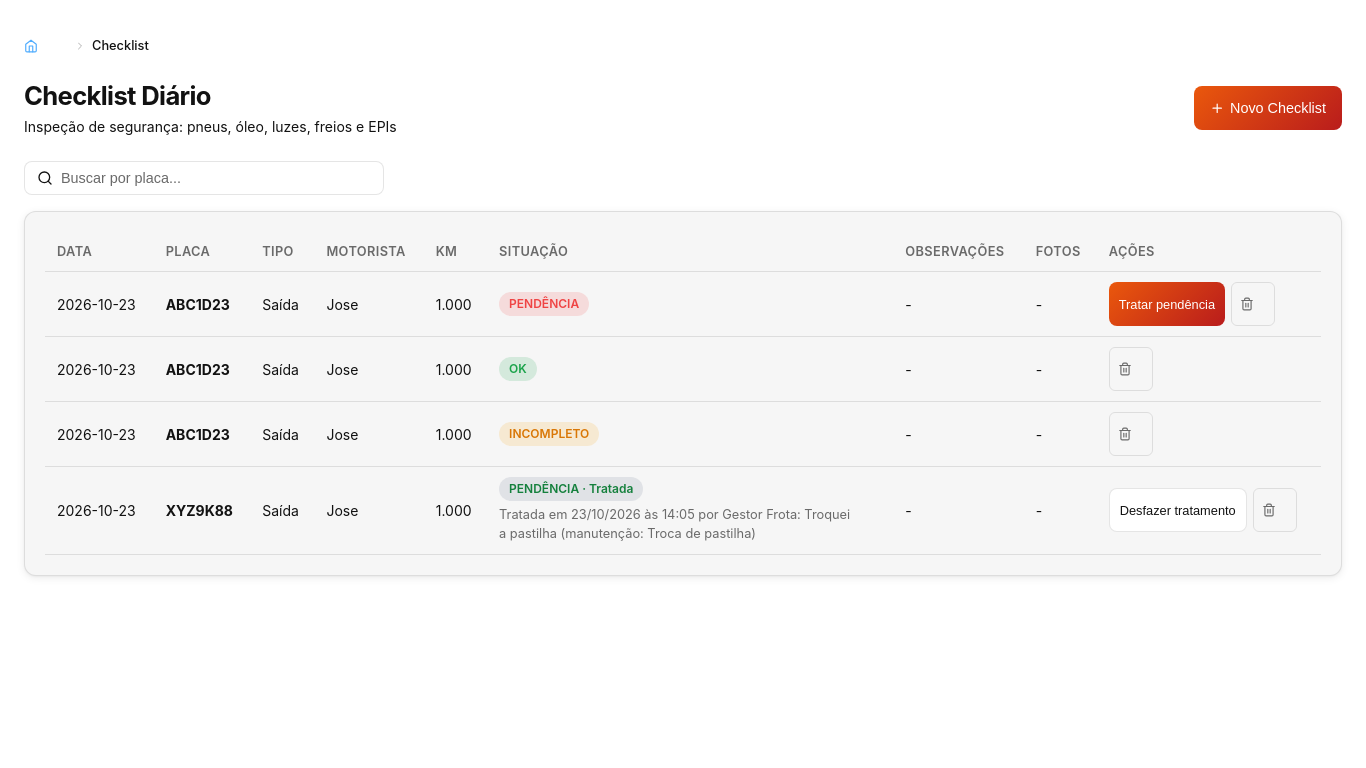
Test: Lista Checklist do gestor: Tratar pendência › Cancelar fecha sem enviar
What coordinates should you click on to do the following:
click the button "Tratar pendência"
I would click on:
 (1167, 304)
Its box is [1109,282,1225,326].
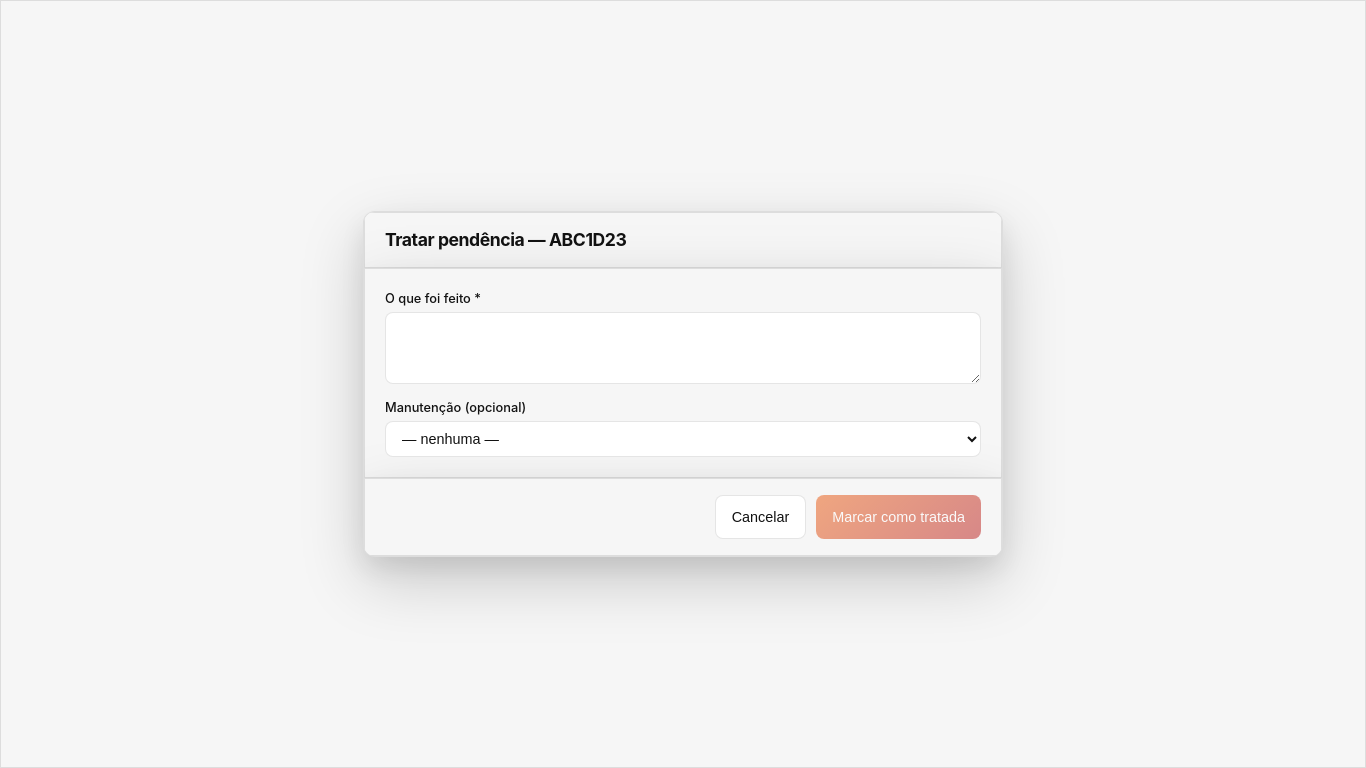
What coordinates should you click on to do the following:
click the button "Cancelar"
I would click on:
 (760, 517)
Its box is [715,495,806,539].
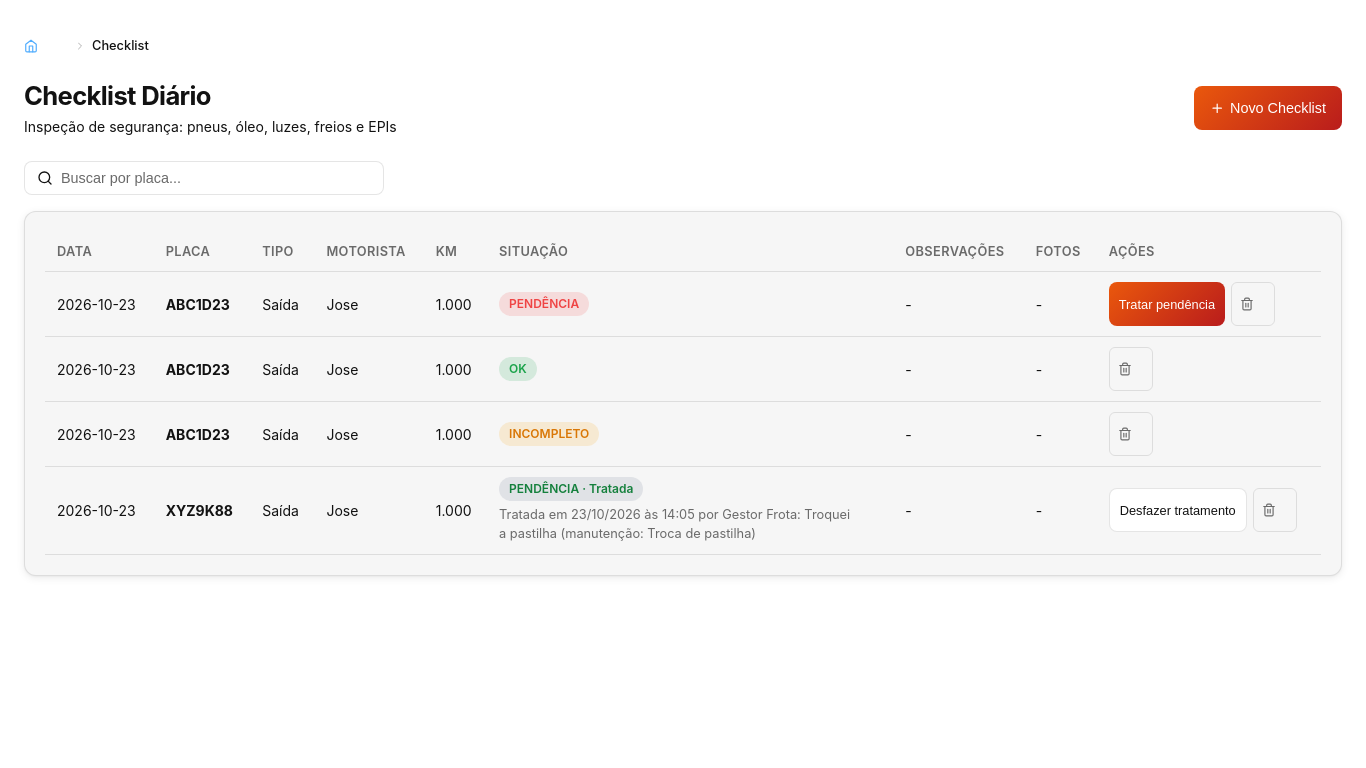
Check: the dialog is gone
